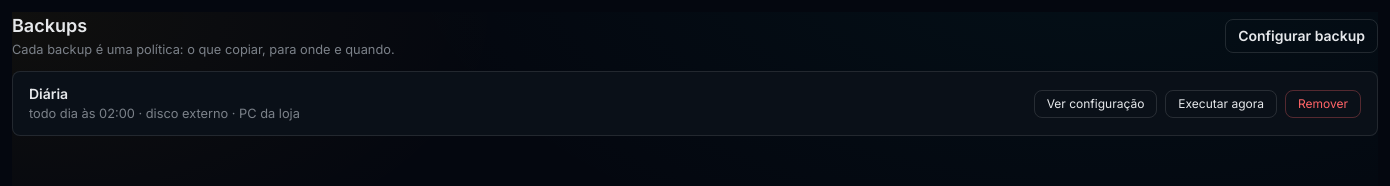
it: Políticas de backup › executar agora usa as MESMAS escolhas da política
The width and height of the screenshot is (1390, 186).
Click the button "Executar agora" at (1221, 104), box [1165,90,1277,118]
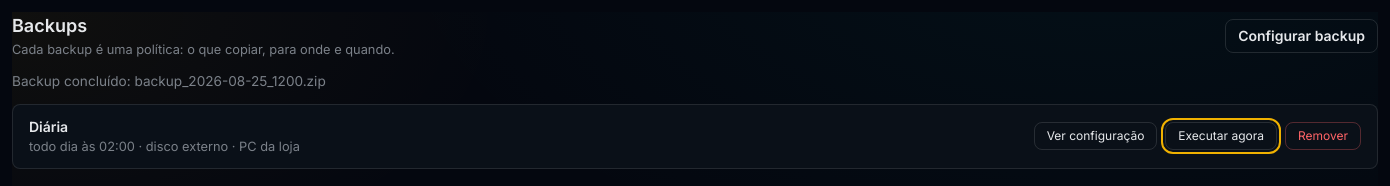
Expected: the text "Backup concluído: backup_2026-08-25_1200.zip" is shown, [12,73,326,89]
